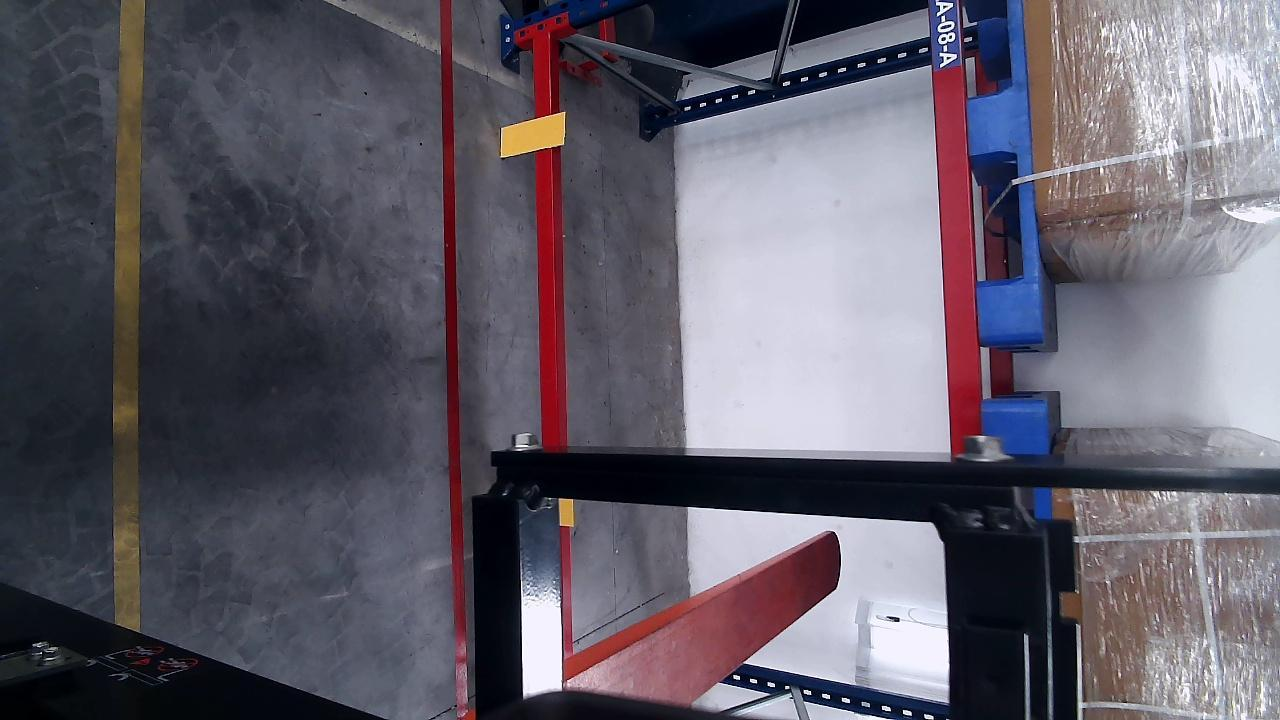h_rack: (925, 0, 983, 431), (527, 34, 562, 449)
orange_strip: (501, 110, 566, 158)
red_line: (441, 1, 468, 716)
small_pallet: (959, 0, 1042, 339)
yellow_line: (116, 0, 146, 629)
